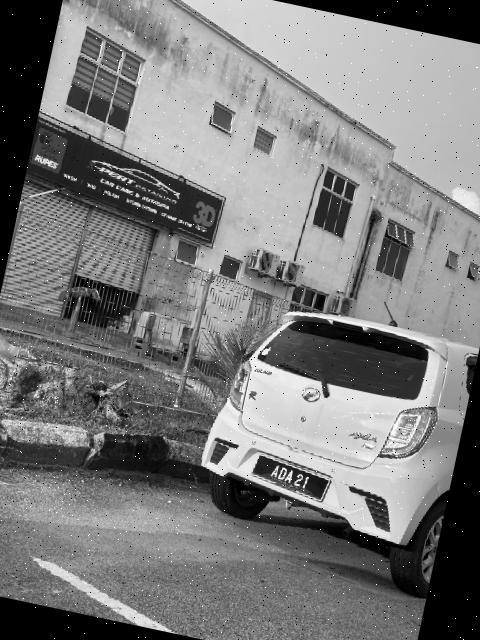ADA21: (250, 453, 334, 503)
License_Plate: (250, 453, 334, 503)
car: (184, 287, 480, 596)
